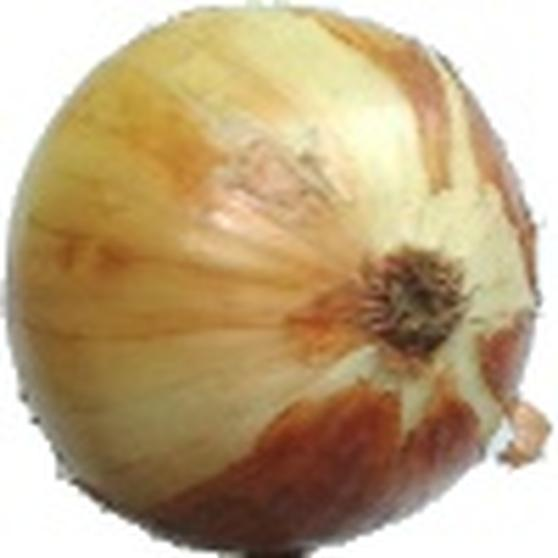onion: (9, 3, 555, 556)
